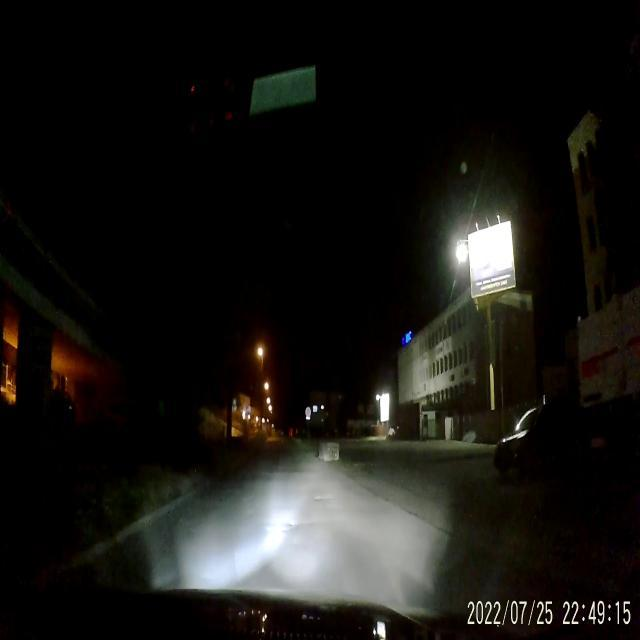Pothole: (312, 492, 330, 507)
